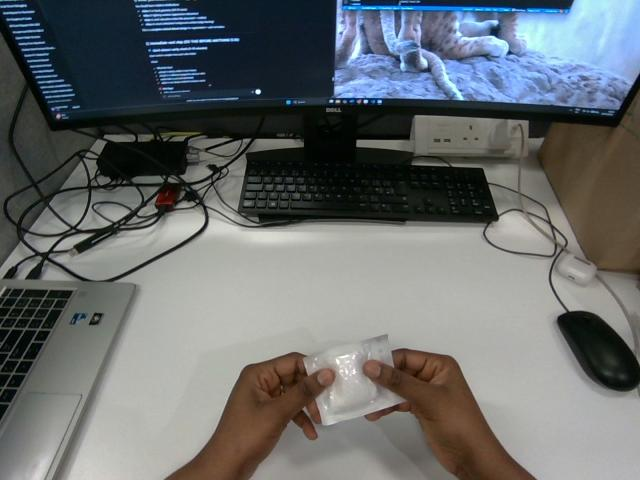gauze: (304, 335, 403, 424)
